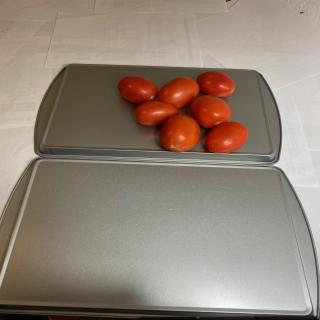Chilli: (117, 71, 249, 153)
Tomato: (159, 114, 201, 152), (190, 95, 232, 129), (205, 122, 249, 154), (157, 77, 200, 108), (118, 75, 158, 104), (135, 101, 180, 126), (196, 71, 236, 97)
